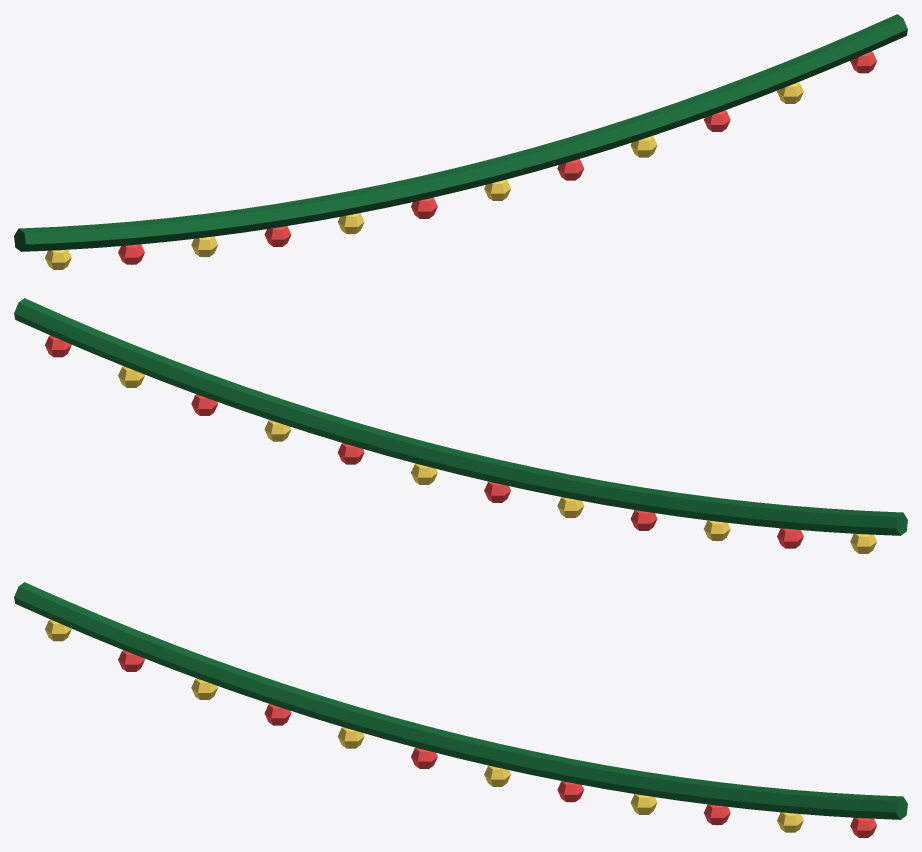
File: DecoGarland.fbx
3 views of the same model, one above another, from view 1: azimuth 30°, elevation 25°; view 2: azimuth 150°, elevation 25°; view 3: azimuth 330°, elevation 25° (orthographic).
Parts seen in each view (by area): view 1: DecoGarland; view 2: DecoGarland; view 3: DecoGarland.
Boxes of the visible parts, x1=… form: DecoGarland: x1=14, y1=14, x2=907, y2=269; DecoGarland: x1=14, y1=298, x2=907, y2=553; DecoGarland: x1=14, y1=582, x2=907, y2=837.
Bounding box in the file's own units: 1209 × 113 × 32.
